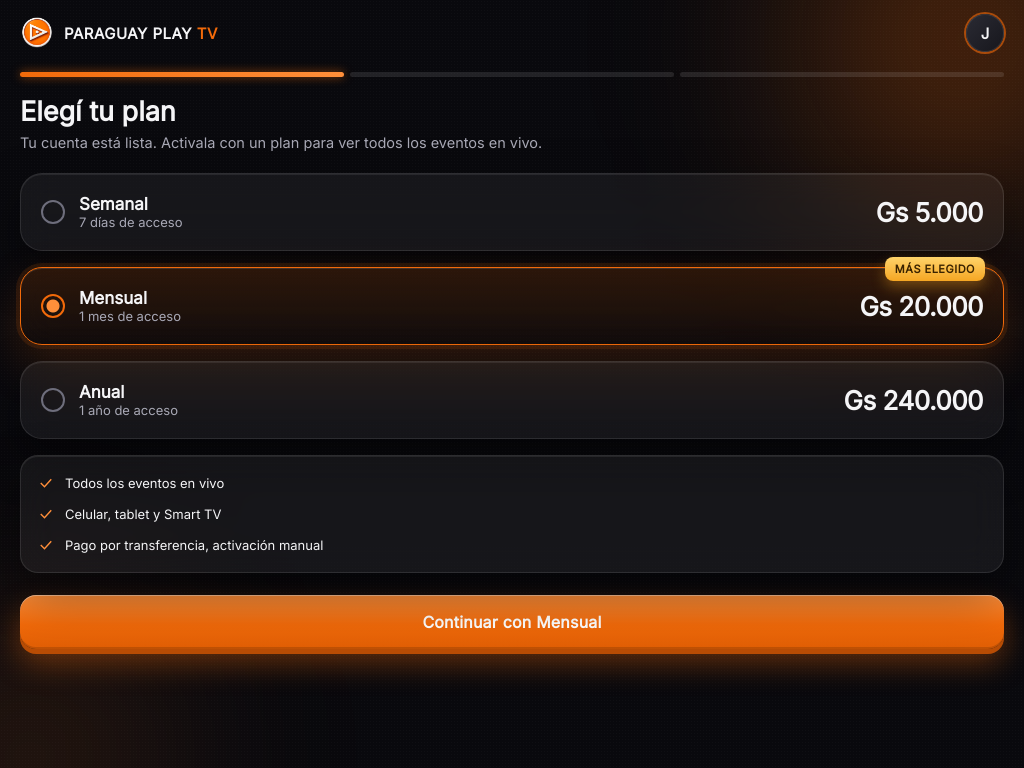
Test: pagar usa el enlace de WhatsApp que devolvió el servidor
The width and height of the screenshot is (1024, 768).
What coordinates should you click on to do the following:
click the radio button labelled "Anual 1 año de acceso Gs 240.000"
I would click on:
 (102, 392)
Its box is x1=20 y1=361 x2=1004 y2=439.
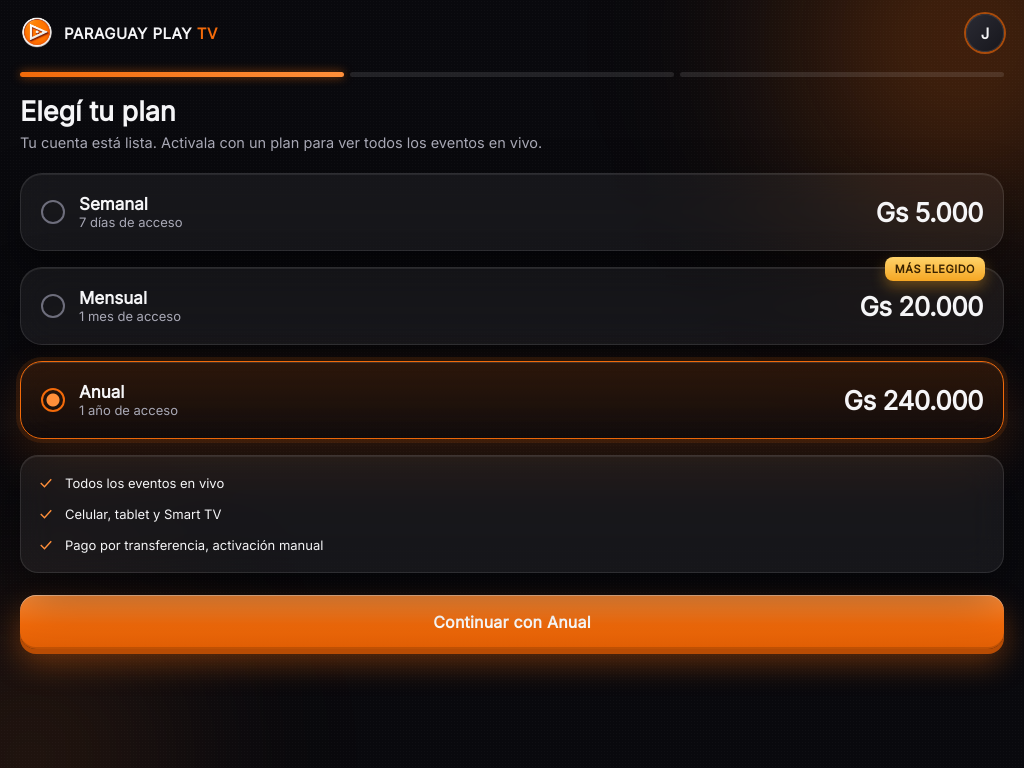
What coordinates should you click on to do the following:
click the button "Continuar con Anual"
I would click on:
 (512, 622)
Its box is x1=20 y1=595 x2=1004 y2=649.
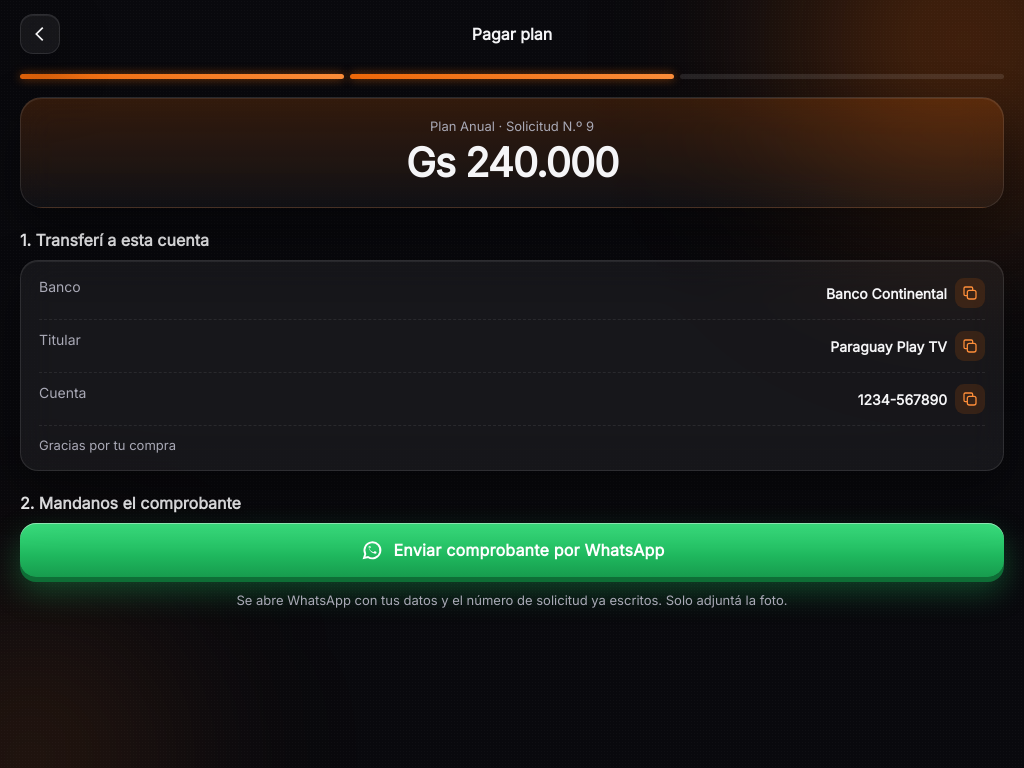
Expected: the text "Gs 240.000" is shown, x1=406 y1=138 x2=618 y2=187
Expected: the text "Banco Continental" is shown, x1=826 y1=278 x2=985 y2=308
Expected: the text "Gracias por tu compra" is shown, x1=39 y1=437 x2=176 y2=453
